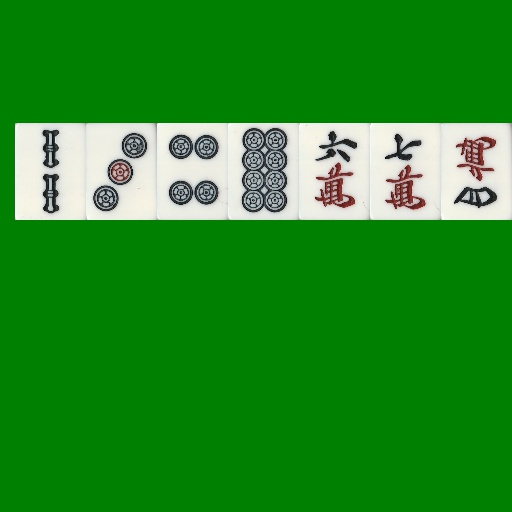2s: (15, 123, 86, 220)
3p: (86, 123, 157, 220)
4m: (441, 123, 512, 220)
4p: (157, 123, 228, 220)
6m: (299, 123, 370, 220)
7m: (370, 123, 441, 220)
8p: (228, 123, 299, 220)
